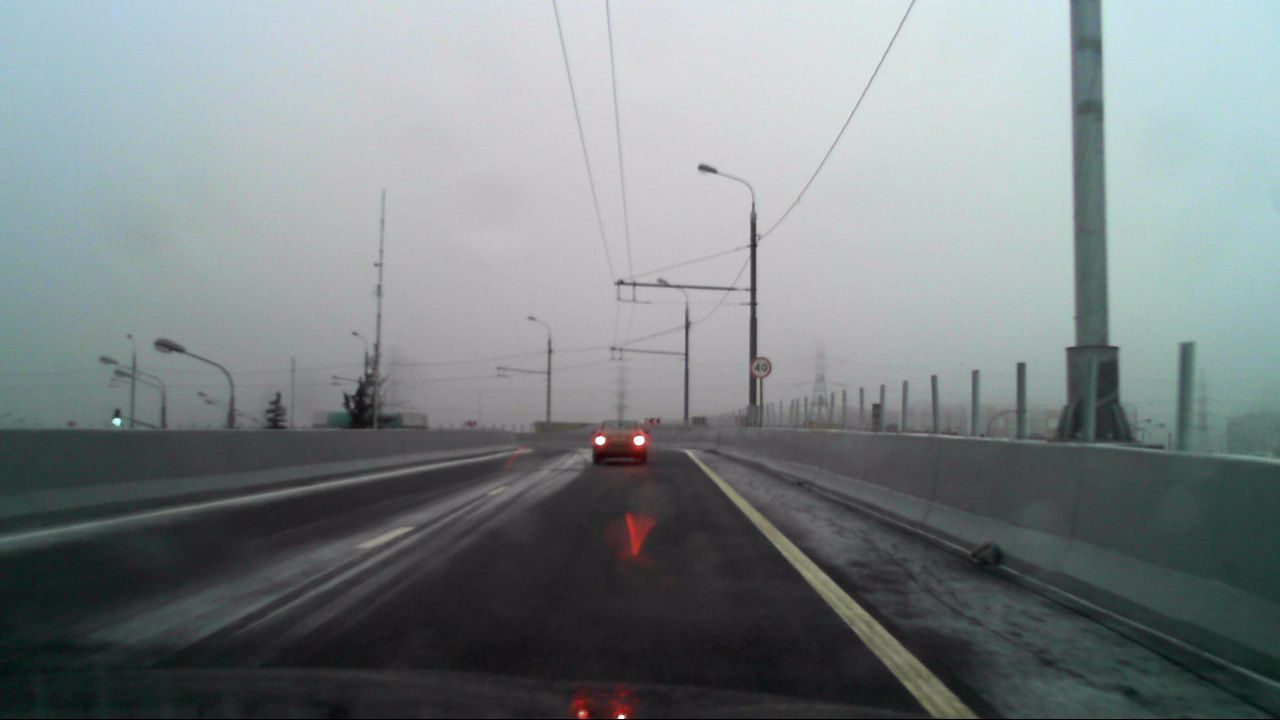speed_warning_40: (750, 356, 771, 378)
